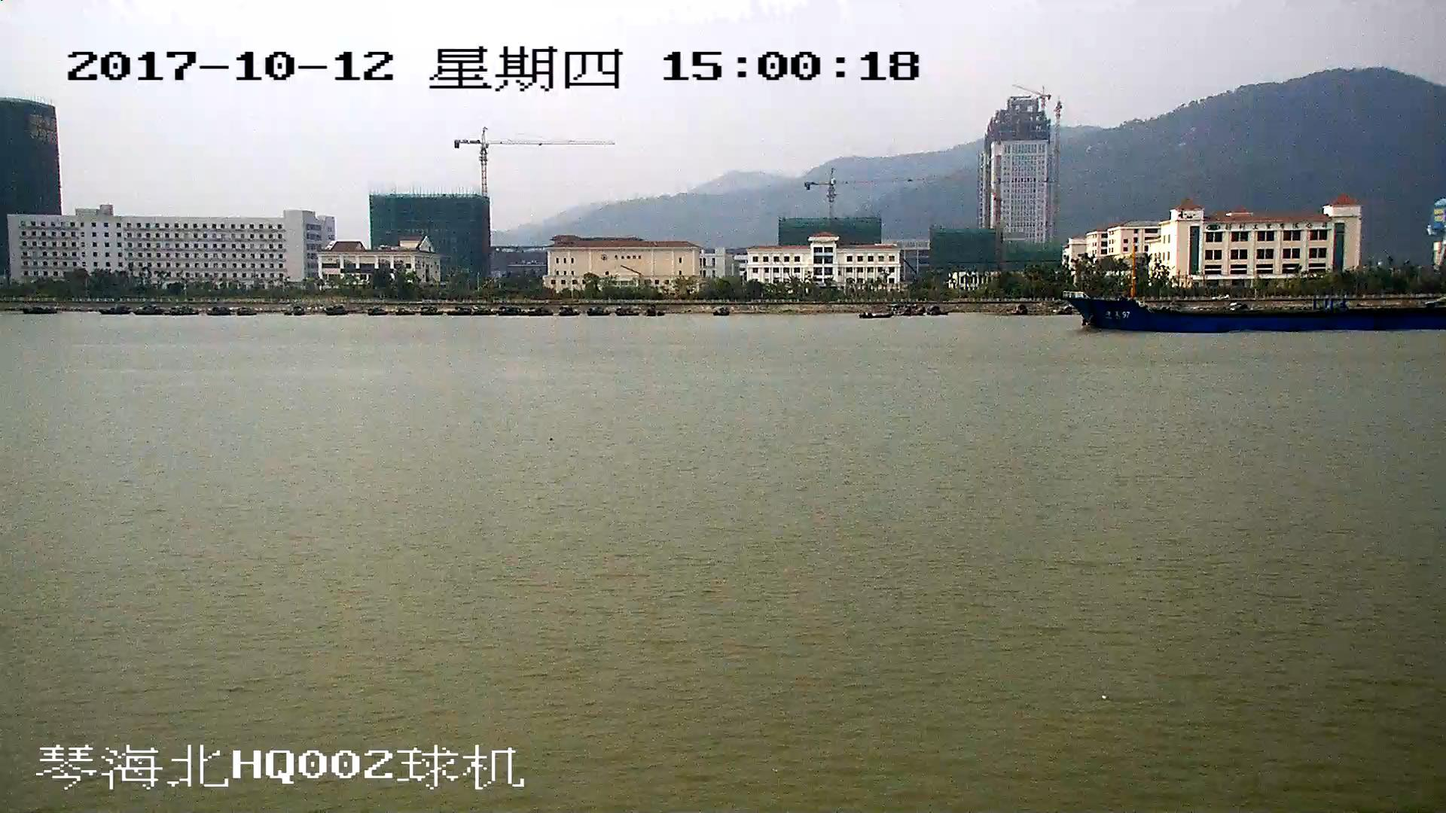general cargo ship: (1069, 248, 1445, 328)
